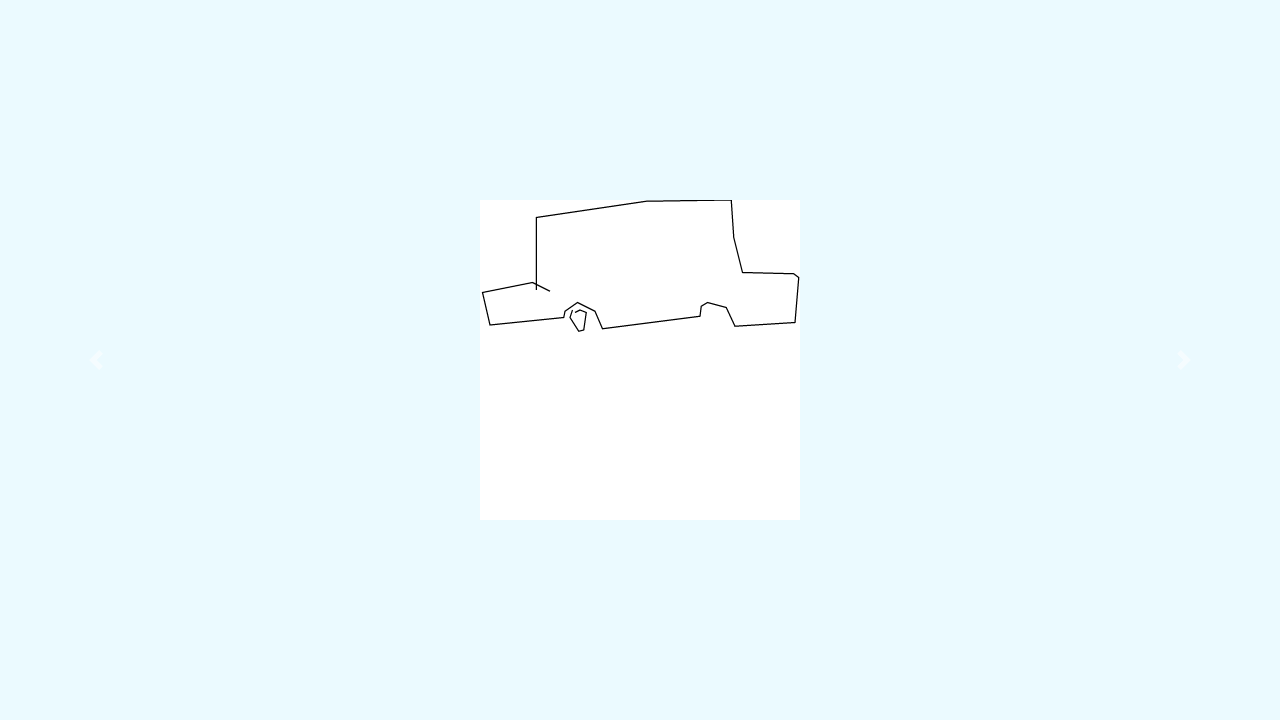car: (474, 196, 802, 338)
